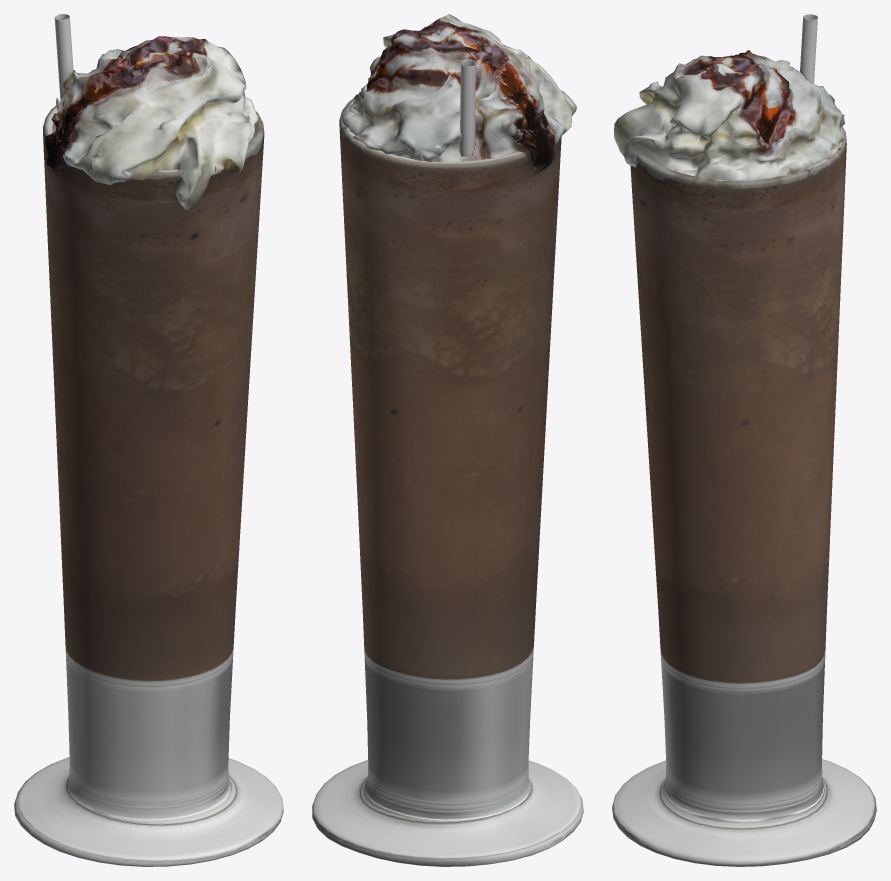
File: milkshake.fbx
3 renders of one model, left to right at view 1: azimuth 30°, elevation 25°; view 2: azimuth 150°, elevation 25°; view 3: azimuth 270°, elevation 25°, orthographic. The views are drawn at different scales.
Parts seen in each view (by area): view 1: Object001; view 2: Object001; view 3: Object001.
Part boxes in pixels (x1=…): Object001: x1=14, y1=14, x2=283, y2=866; Object001: x1=312, y1=14, x2=583, y2=866; Object001: x1=612, y1=14, x2=876, y2=866.
Size of the model in its own units: 15.6 by 50.03 by 15.6.
2 materials, 2 textured.
